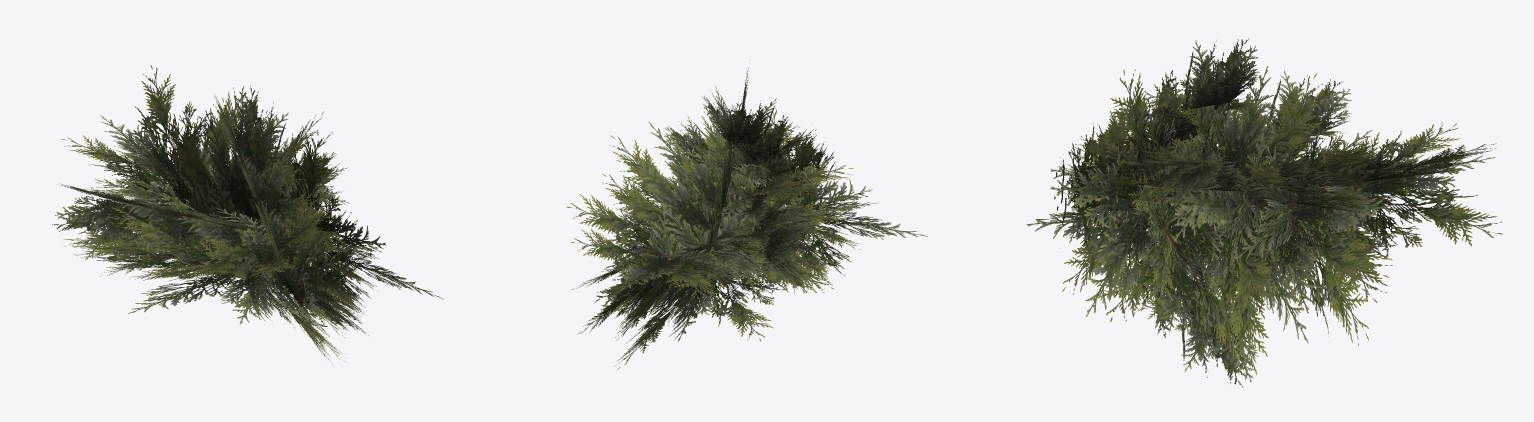
Rendered from pine tree mini fg 4.fbx.
3 views of the same model, side by side, from view 1: azimuth 30°, elevation 25°; view 2: azimuth 150°, elevation 25°; view 3: azimuth 270°, elevation 25° (orthographic). The views are drawn at different scales.
Visible parts, largest first — view 1: Cylinder_014; view 2: Cylinder_014; view 3: Cylinder_014.
Part boxes in pixels (bbox=[...]): Cylinder_014: bbox=[52, 65, 443, 366]; Cylinder_014: bbox=[566, 63, 927, 369]; Cylinder_014: bbox=[1026, 38, 1502, 387].
Size of the model in its own units: 2.04 by 1.56 by 2.23.
